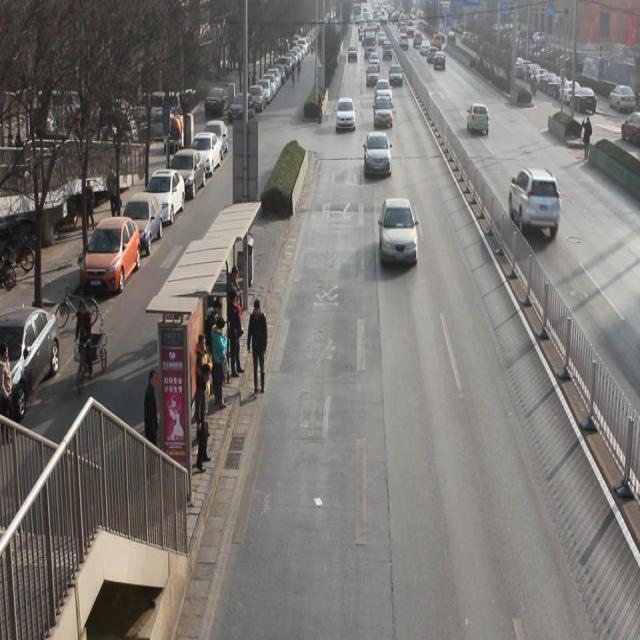car: (509, 165, 562, 239), (375, 197, 422, 268), (363, 130, 395, 179), (465, 101, 493, 138), (336, 96, 358, 134), (374, 94, 395, 126), (374, 78, 395, 105)
